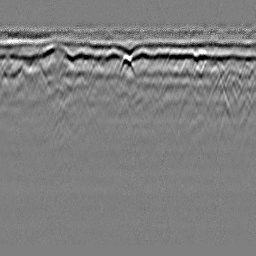cavity: (118, 54, 135, 75)
